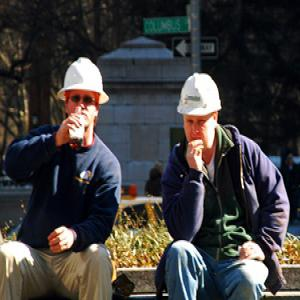white: (179, 70, 220, 153), (63, 57, 103, 129)
